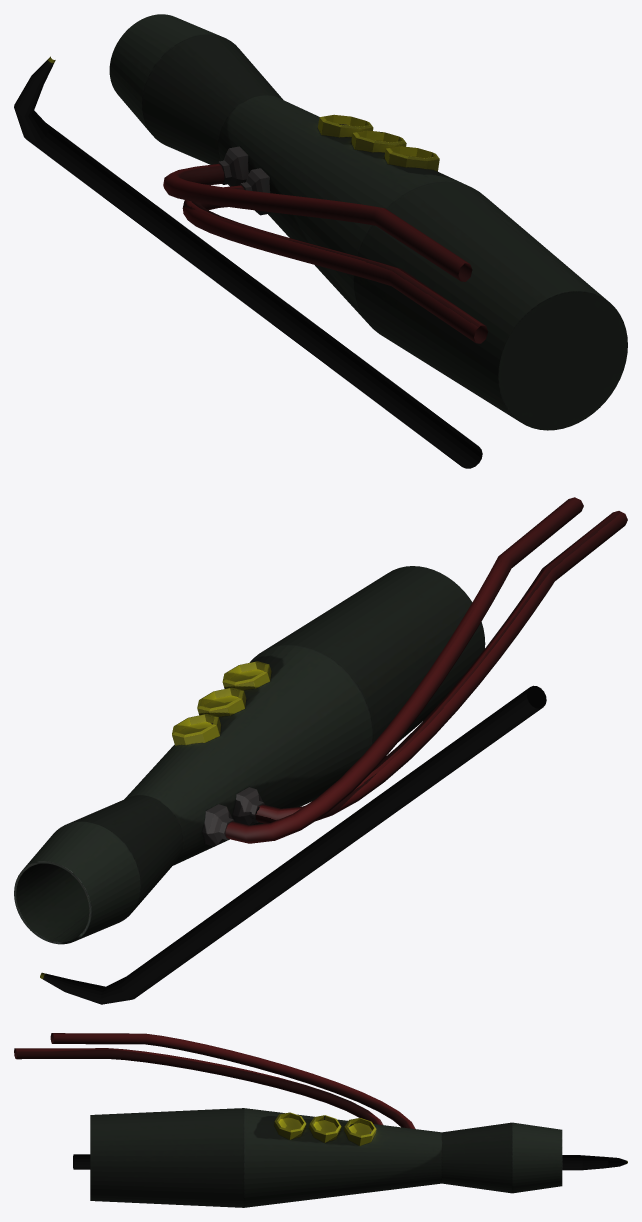
File: FireCannon.fbx
3 views of the same model, one above another, from view 1: azimuth 30°, elevation 25°; view 2: azimuth 150°, elevation 25°; view 3: azimuth 270°, elevation 25° (orthographic). The views are drawn at different scales.
Parts seen in each view (by area): view 1: Cannon, Flame tube, Tube.001, Tube, Exhaust, GasTubeEntrance; view 2: Cannon, Flame tube, Tube.001, Tube, Exhaust, GasTubeEntrance; view 3: Cannon, Tube.001, Tube, Exhaust, Flame tube.
Part boxes in pixels (x1,y1,x2,y2): Cannon: (109,14,627,430); Flame tube: (14,56,482,468); Tube.001: (163,164,472,281); Tube: (182,185,488,343); Exhaust: (318,114,439,171); GasTubeEntrance: (218,146,270,215); Cannon: (14,566,485,944); Flame tube: (40,685,546,1004); Tube.001: (225,497,583,843); Tube: (252,511,627,823); Exhaust: (172,661,271,745); GasTubeEntrance: (202,787,264,846); Cannon: (90,1108,562,1207); Tube.001: (50,1033,415,1128); Tube: (14,1048,383,1124); Exhaust: (274,1112,376,1145); Flame tube: (73,1154,627,1170).
Bounding box in the file's own units: 166 × 147 × 612.
1 material, 1 textured.
